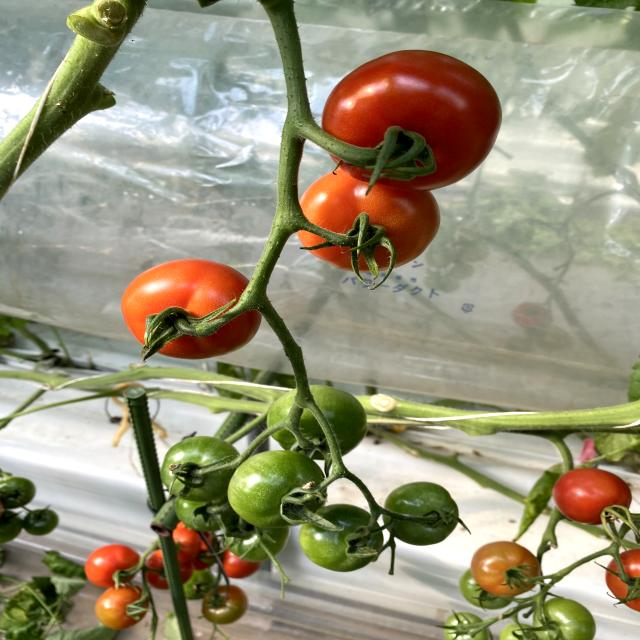ripe0: (227, 450, 327, 528), (384, 481, 459, 546), (162, 436, 235, 501)
ripe1: (471, 541, 539, 594)
ripe2: (323, 48, 502, 189), (294, 166, 440, 273), (124, 256, 260, 359), (553, 469, 631, 525), (85, 544, 140, 587)
